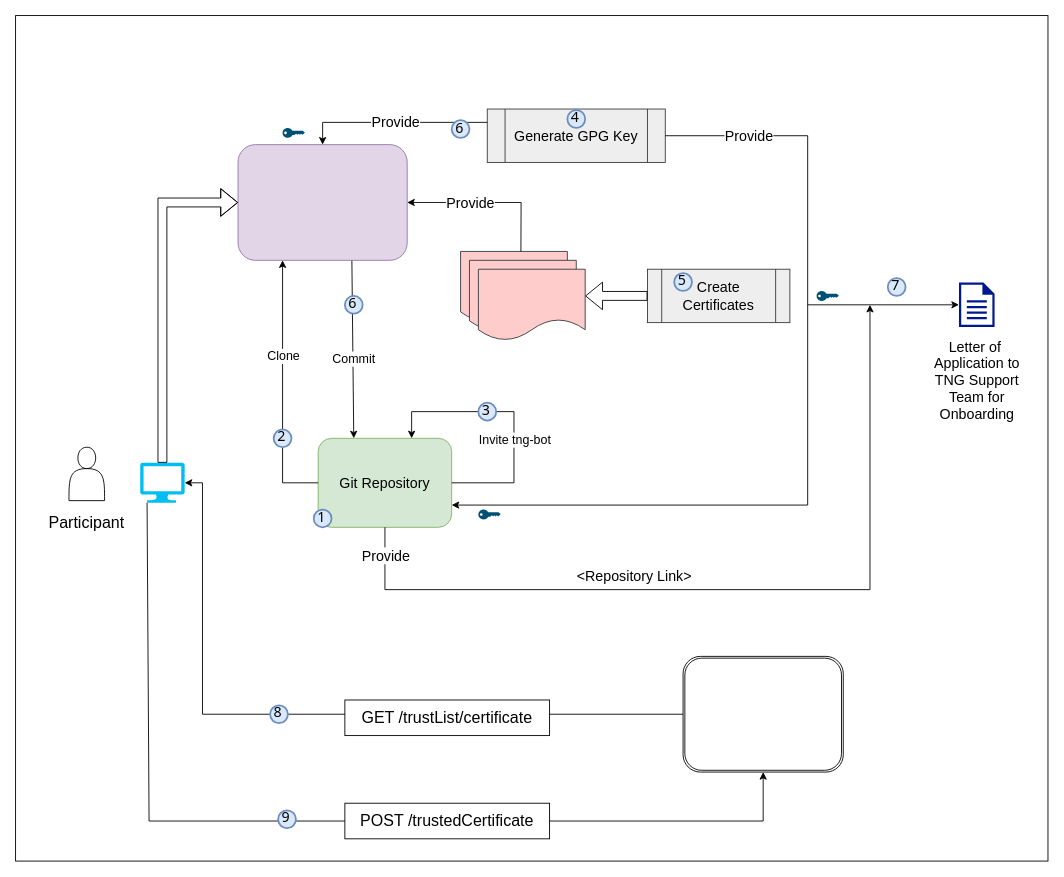
Some shapes in this 1064 by 877 pixel diagram are drawn without their labels. The shapes that lost their labels are listed below. From the top down, each one's centre as x and y in pixels, then its label:
At (x=322, y=202): "Local Repository".
At (x=531, y=304): "Certificates".
At (x=762, y=713): "TNG Application".
